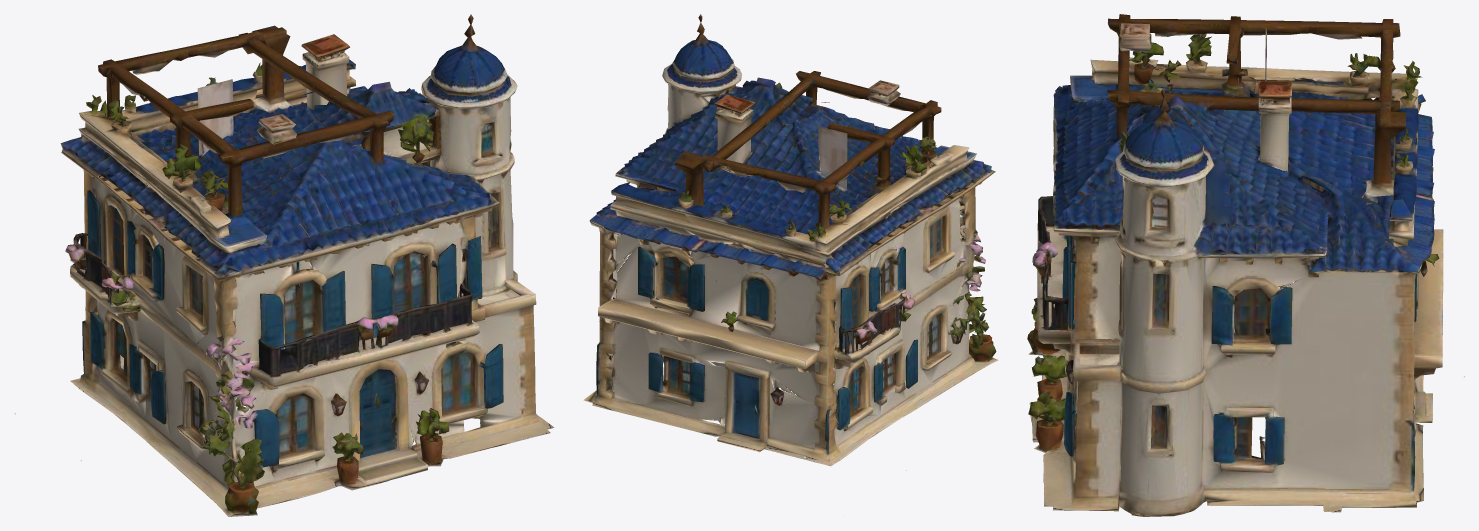
Rendered from candidate.glb.
The picture shows the model from 3 angles, left to right: view 1: azimuth 30°, elevation 25°; view 2: azimuth 150°, elevation 25°; view 3: azimuth 270°, elevation 25°; orthographic projection. The views are drawn at different scales.
Visible parts, largest first — view 1: harbor__tower_2__native_mobile; view 2: harbor__tower_2__native_mobile; view 3: harbor__tower_2__native_mobile.
Boxes of the visible parts, x1=… form: harbor__tower_2__native_mobile: x1=14, y1=14, x2=554, y2=516; harbor__tower_2__native_mobile: x1=583, y1=14, x2=998, y2=470; harbor__tower_2__native_mobile: x1=1027, y1=14, x2=1464, y2=516.
Size of the model in its own units: 0.8799 by 1 by 0.874.
1 material, 1 textured.
